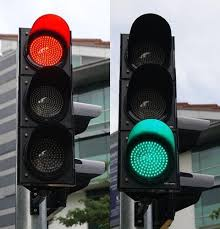red: (13, 29, 77, 188), (20, 21, 78, 190)
